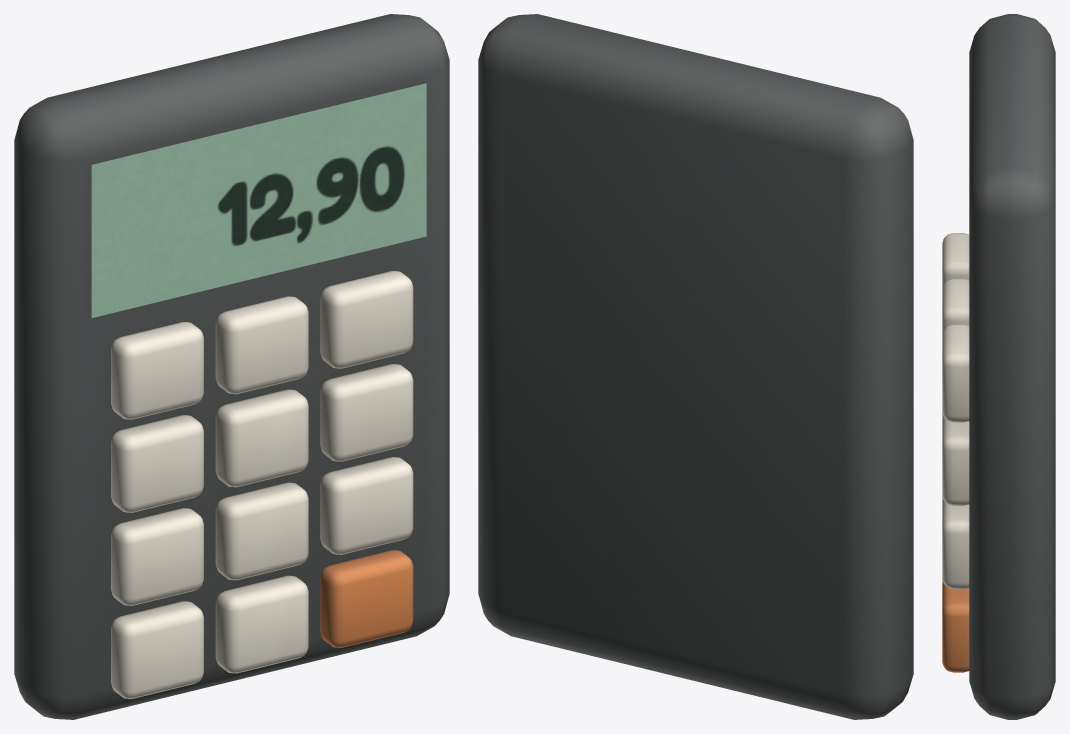
File: Calculator.fbx
3 renders of one model, left to right at view 1: azimuth 30°, elevation 25°; view 2: azimuth 150°, elevation 25°; view 3: azimuth 270°, elevation 25°, orthographic. The views are drawn at different scales.
Parts seen in each view (by area): view 1: Calculator; view 2: Calculator; view 3: Calculator.
Part boxes in pixels (x1=…): Calculator: x1=14, y1=14, x2=449, y2=719; Calculator: x1=478, y1=14, x2=913, y2=719; Calculator: x1=942, y1=14, x2=1055, y2=719.
Bounding box in the file's own units: 40 × 56 × 10.5.
